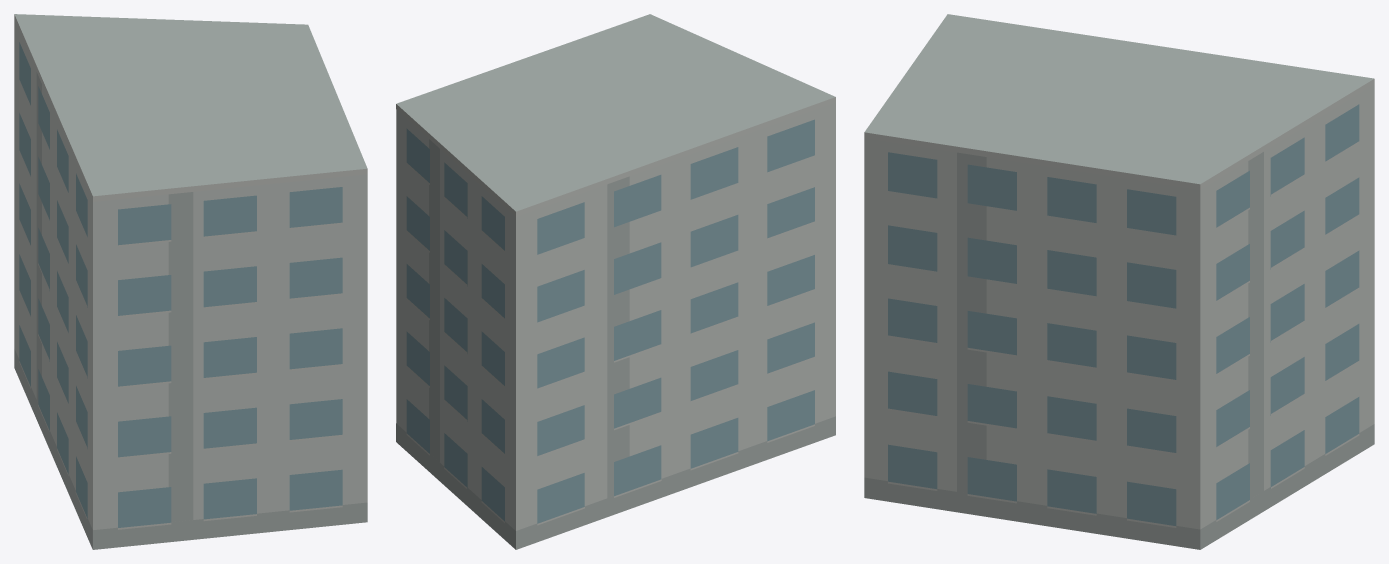
The model's file is residential-bfbd4922-f798-4193-98a2-04bfd75621f6.glb.
The picture shows the model from 3 angles, left to right: view 1: azimuth 30°, elevation 25°; view 2: azimuth 150°, elevation 25°; view 3: azimuth 270°, elevation 25°; orthographic projection. The views are drawn at different scales.
Parts seen in each view (by area): view 1: residential-bfbd4922-f798-4193-98a2-04bfd75621f6.tmp; view 2: residential-bfbd4922-f798-4193-98a2-04bfd75621f6.tmp; view 3: residential-bfbd4922-f798-4193-98a2-04bfd75621f6.tmp.
Boxes of the visible parts, box(x1,y1,x2,y2) form: residential-bfbd4922-f798-4193-98a2-04bfd75621f6.tmp: box(14, 14, 367, 549); residential-bfbd4922-f798-4193-98a2-04bfd75621f6.tmp: box(396, 14, 835, 549); residential-bfbd4922-f798-4193-98a2-04bfd75621f6.tmp: box(864, 14, 1374, 549).
Size of the model in its own units: 15.24 by 15.25 by 19.3.
